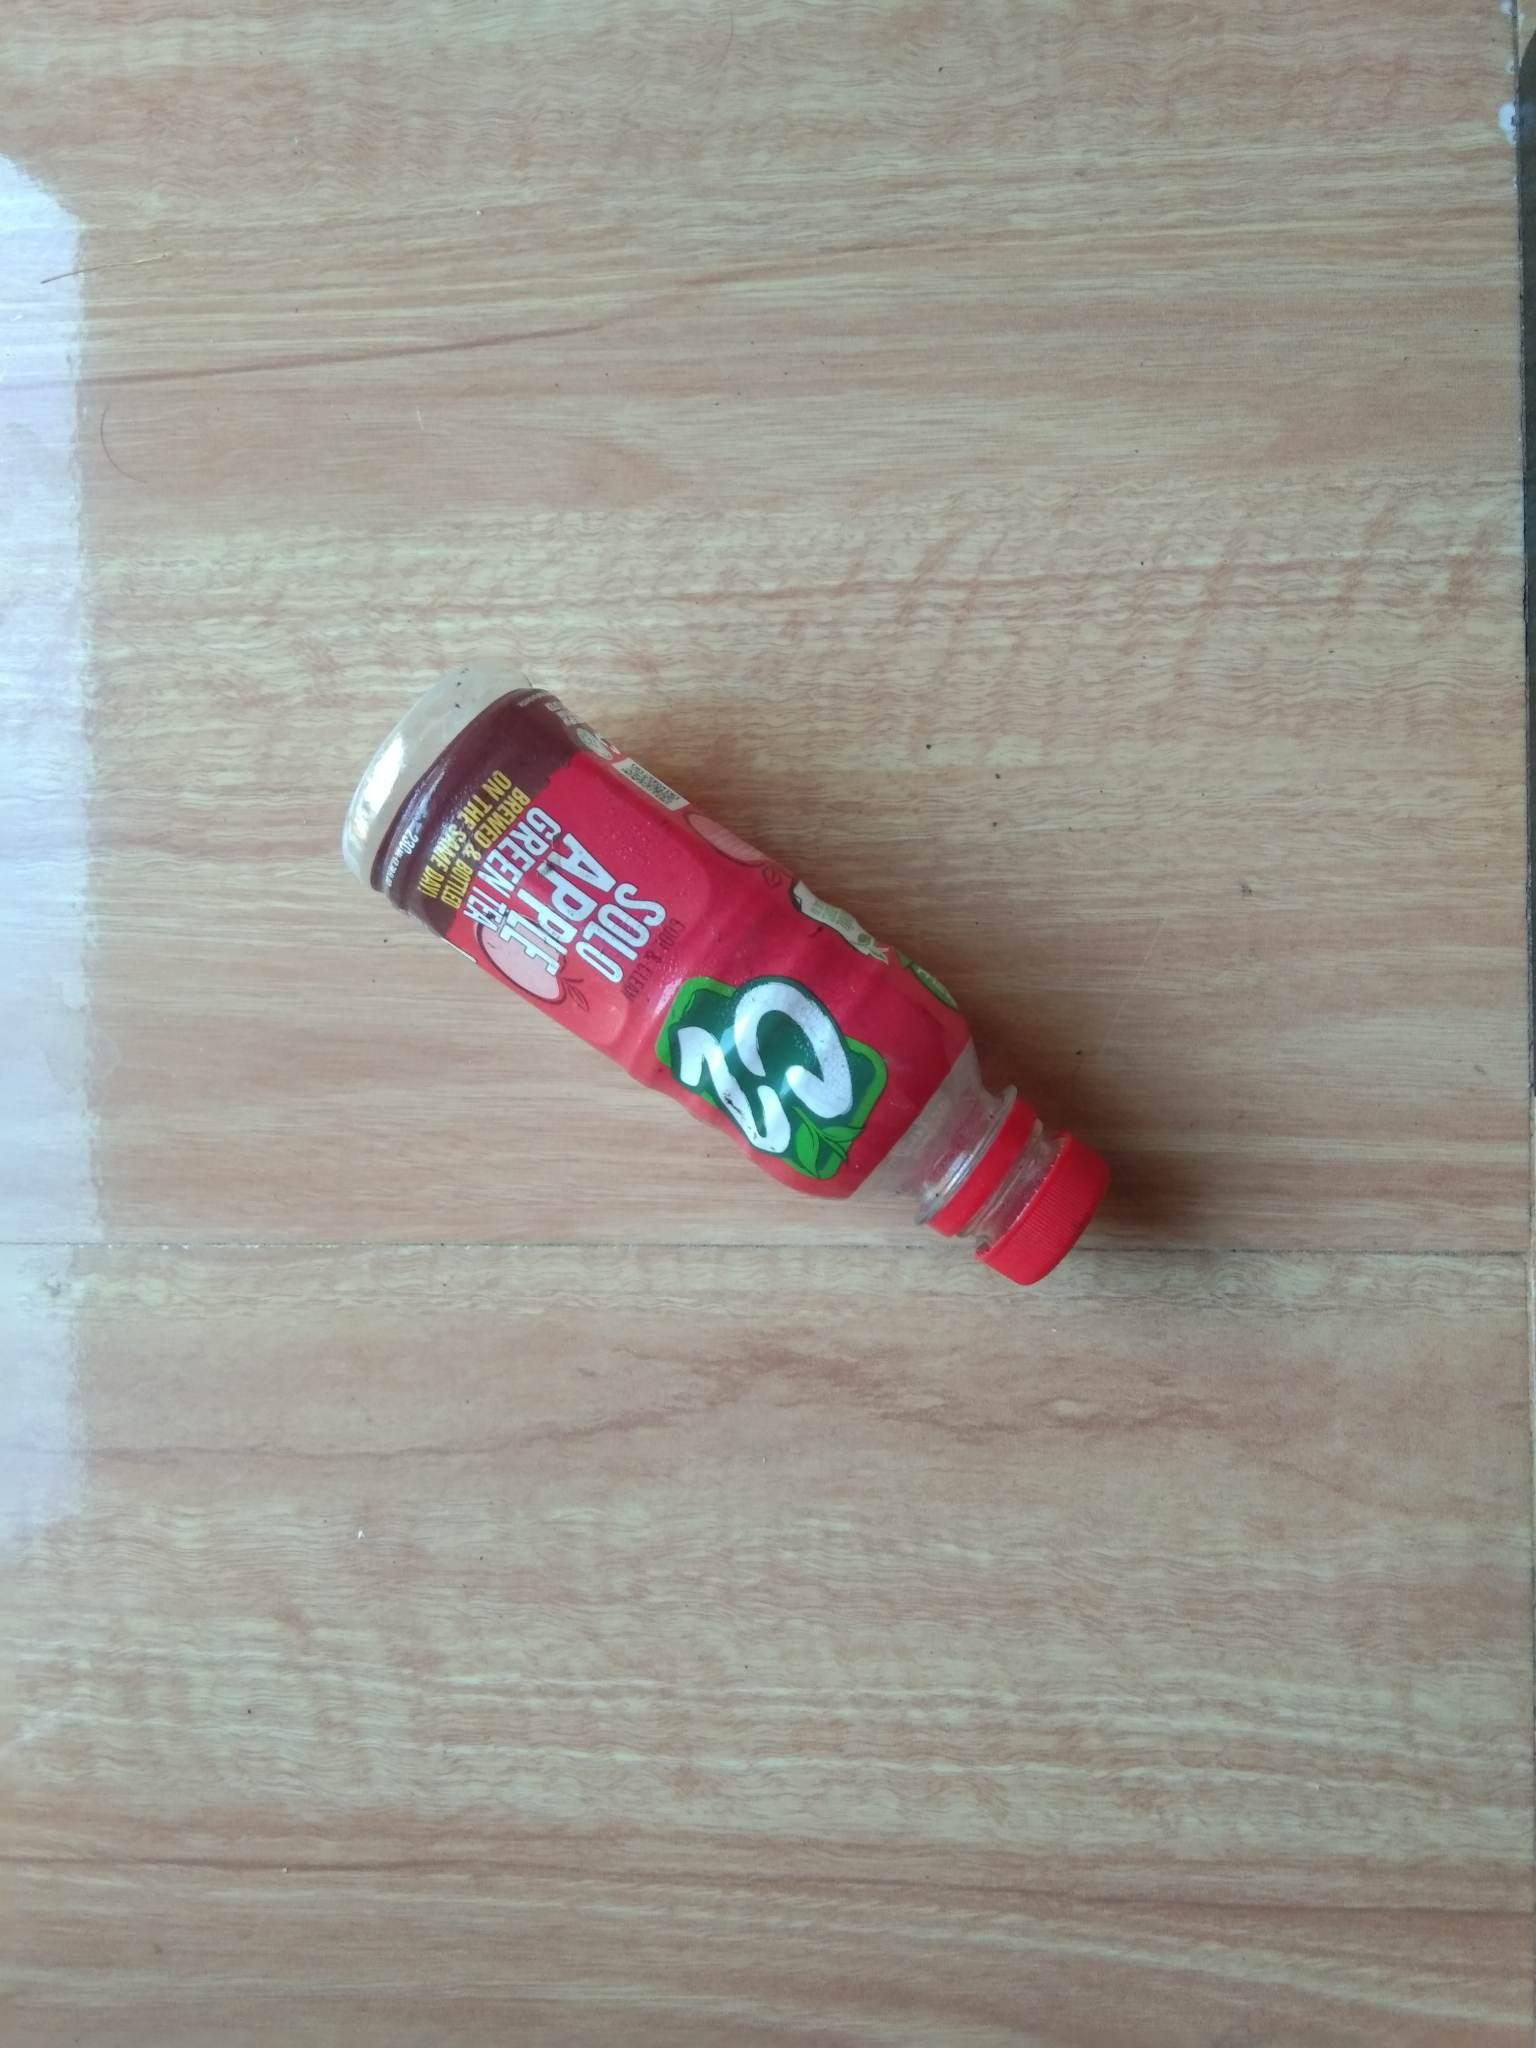plastic: (297, 634, 1175, 1330)
